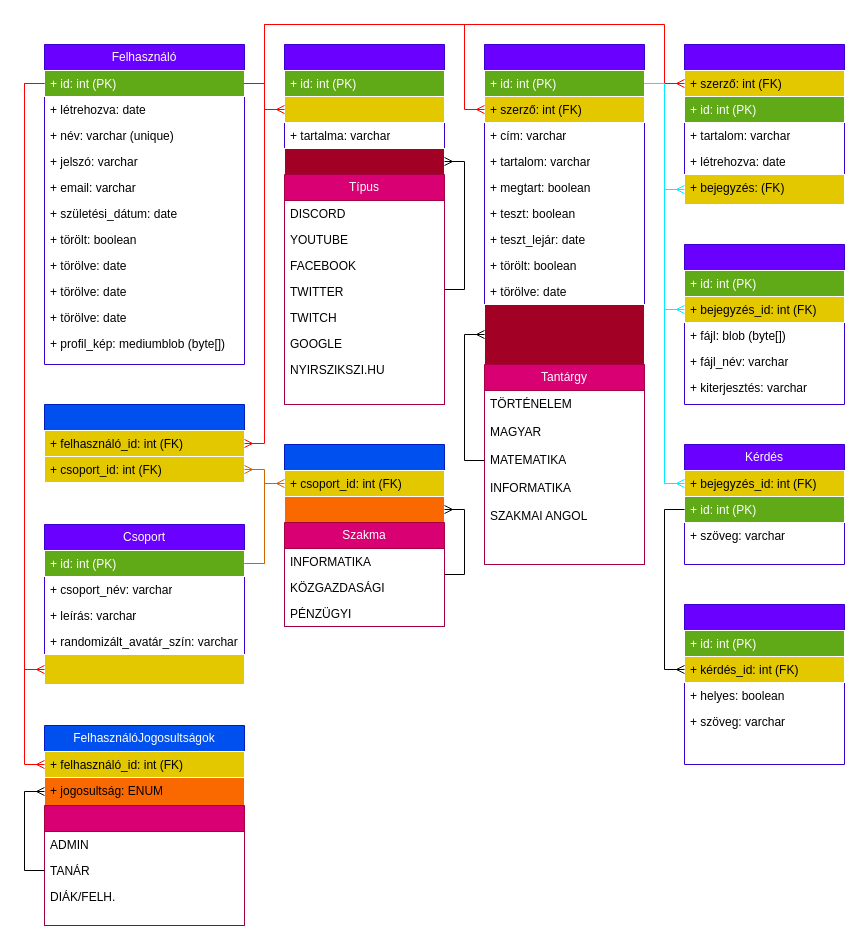
Image size: 862x946. Some labels were removed from this diagram. The shapes that lost their labels are listed below. From the top down, each one's box as (x1, y1, x2, y2) in pixels, then its label:
(284, 96, 444, 122): + felhasz_id: int (FK)
(684, 44, 844, 204): Komment
(284, 148, 444, 174): + típus: ENUM
(284, 44, 444, 404): Elérhetőségek
(484, 44, 644, 564): Bejegyzés
(684, 244, 844, 404): Csatolmány
(484, 304, 644, 364): + tantárgy: ENUM
(44, 404, 244, 482): CsoportosítottFelhasználók
(284, 496, 444, 522): + szakma : ENUM
(284, 444, 444, 626): CsoportSzakmák
(44, 654, 244, 684): + készítő_id: int (FK)
(684, 604, 844, 764): Válasz
(44, 804, 244, 926): Jogosultság
